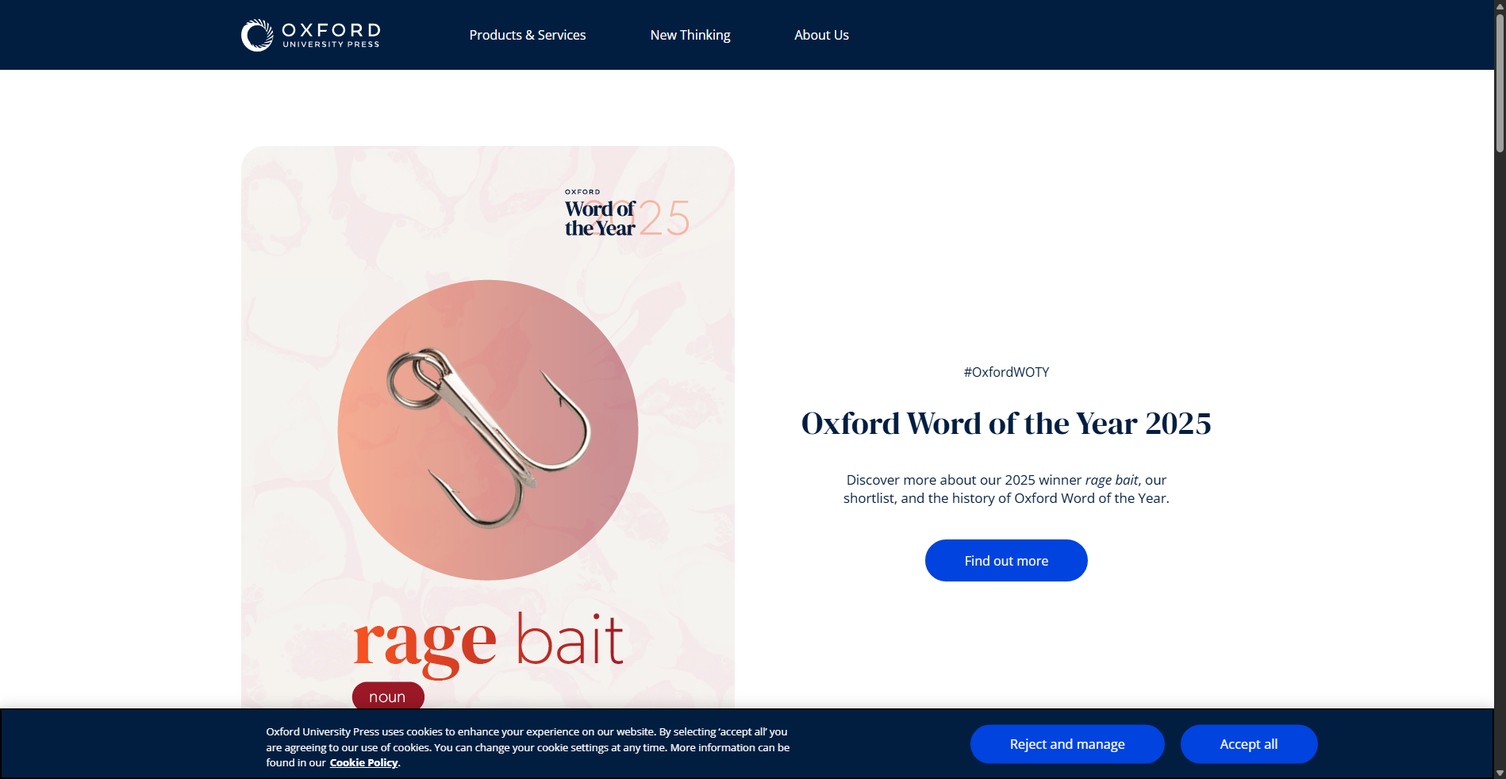general_button: (970, 725, 1165, 763), (925, 539, 1088, 582), (1181, 725, 1318, 763)
general_image: (241, 146, 734, 779), (241, 19, 380, 51)
general_link: (241, 19, 380, 51), (330, 756, 398, 770)
icon_menu: (279, 106, 604, 201), (279, 106, 604, 193), (604, 106, 1253, 141), (604, 141, 1253, 176), (604, 176, 1253, 211), (604, 106, 1177, 135), (604, 141, 1177, 170), (604, 176, 1177, 205), (604, 211, 928, 247), (928, 106, 1253, 141), (928, 141, 1253, 176), (928, 176, 1253, 211), (604, 106, 928, 141), (604, 141, 928, 176), (604, 176, 928, 211), (928, 106, 1177, 135), (928, 141, 1177, 170), (928, 176, 1177, 205), (604, 106, 852, 135), (604, 141, 852, 170), (604, 176, 852, 205), (604, 211, 852, 240), (456, 19, 599, 51), (637, 19, 743, 51), (781, 19, 862, 51)
